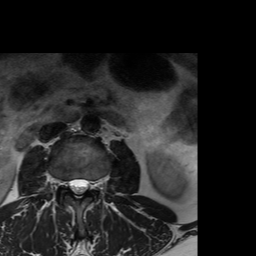CCS_normal: (74, 175, 83, 203)
LFS_normal: (90, 175, 97, 195)
LLS_normal: (83, 174, 89, 194)
RFS_stenosis: (59, 174, 67, 192)
RLS_normal: (66, 174, 73, 193)
